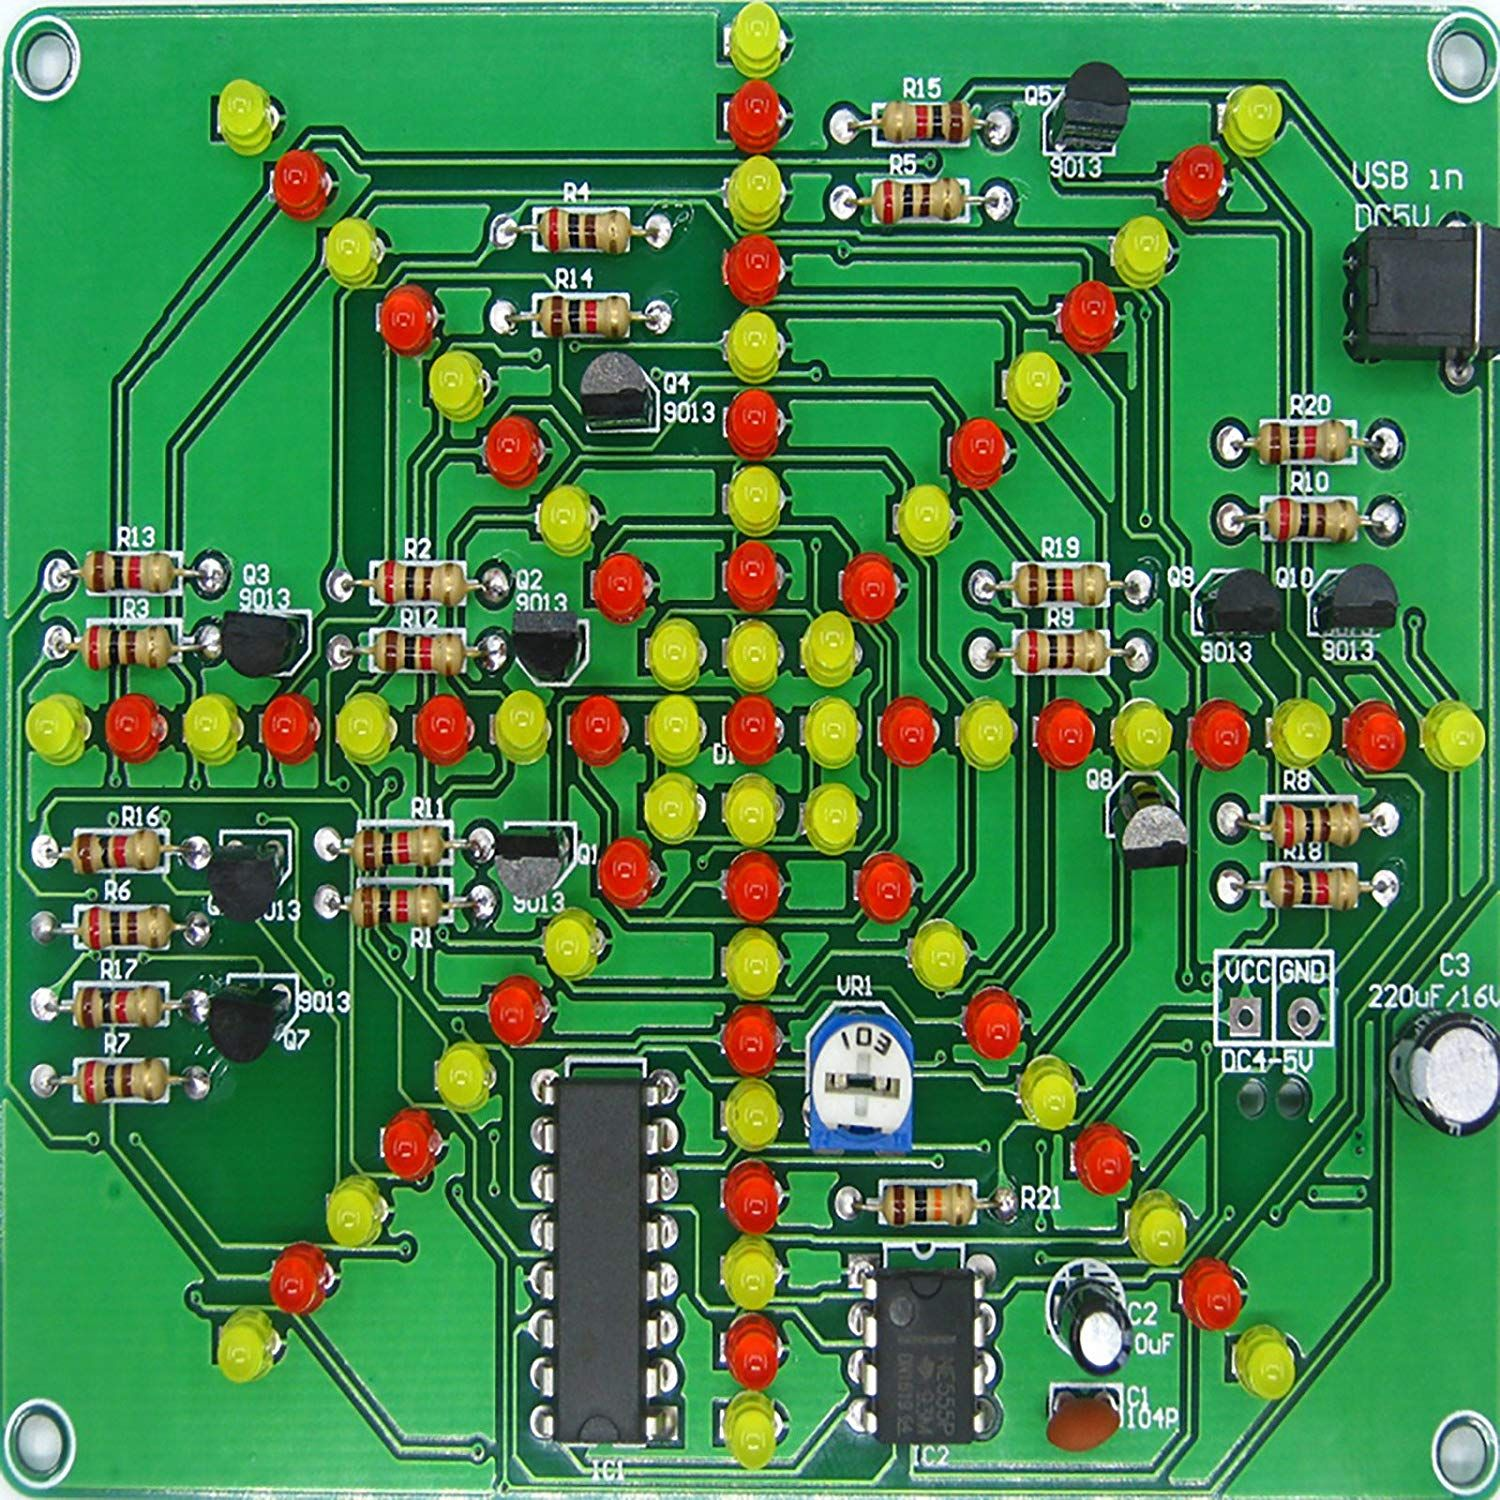Capacitor: (1387, 1001, 1500, 1140), (1054, 1273, 1132, 1376)
LED: (1234, 1323, 1298, 1401), (1016, 1055, 1080, 1135), (1126, 1188, 1188, 1268), (217, 76, 277, 157), (723, 1312, 782, 1391), (1180, 1255, 1240, 1332), (721, 1234, 780, 1312), (723, 1389, 777, 1473), (1423, 701, 1486, 773), (799, 609, 857, 688), (1074, 1121, 1135, 1196), (216, 1306, 273, 1385), (723, 1159, 780, 1238), (1113, 213, 1170, 291), (1343, 701, 1407, 772), (25, 694, 87, 766), (723, 1077, 782, 1152), (1166, 144, 1225, 220), (727, 1, 782, 82), (725, 309, 783, 386), (725, 154, 783, 231), (1034, 698, 1095, 771), (723, 927, 782, 1001), (727, 463, 784, 538), (1059, 279, 1117, 354), (963, 985, 1021, 1060), (1223, 85, 1283, 157), (727, 77, 782, 155), (1272, 698, 1331, 771), (641, 772, 699, 846), (268, 1240, 326, 1315), (723, 773, 780, 848), (721, 1004, 777, 1080), (492, 690, 547, 766), (541, 908, 599, 981), (272, 148, 328, 223), (326, 1174, 382, 1249), (724, 538, 780, 613), (727, 387, 782, 463), (261, 692, 319, 764), (488, 975, 545, 1047), (1192, 701, 1250, 772), (413, 694, 470, 766), (725, 235, 782, 308), (896, 484, 952, 556), (949, 416, 1005, 489), (1005, 352, 1062, 424), (538, 484, 593, 558), (804, 696, 859, 771), (957, 698, 1012, 772), (1113, 702, 1172, 771), (383, 1107, 437, 1183), (805, 783, 859, 859), (841, 552, 897, 624), (326, 217, 380, 290), (337, 694, 391, 766), (598, 837, 652, 909), (727, 852, 782, 924), (379, 283, 433, 357), (185, 692, 239, 766), (727, 620, 780, 694), (484, 416, 538, 488), (435, 1041, 490, 1113), (592, 551, 646, 624), (648, 694, 702, 766), (570, 694, 624, 766), (429, 352, 484, 422), (104, 692, 159, 762), (880, 696, 934, 768), (859, 852, 912, 923), (913, 919, 967, 990), (648, 618, 701, 691), (727, 694, 779, 766)
Resistor: (868, 176, 970, 227), (1265, 798, 1364, 850), (878, 1180, 979, 1229), (370, 559, 471, 609), (534, 294, 635, 343), (538, 205, 635, 255), (1261, 863, 1359, 912), (348, 824, 448, 872), (76, 1056, 170, 1107), (374, 626, 468, 677), (70, 827, 163, 878), (73, 984, 170, 1032), (879, 98, 977, 146), (1011, 562, 1109, 610), (77, 549, 180, 595), (1012, 626, 1109, 674), (1254, 420, 1354, 466), (80, 624, 173, 672), (345, 885, 444, 930), (1265, 499, 1359, 545), (76, 907, 174, 951)
